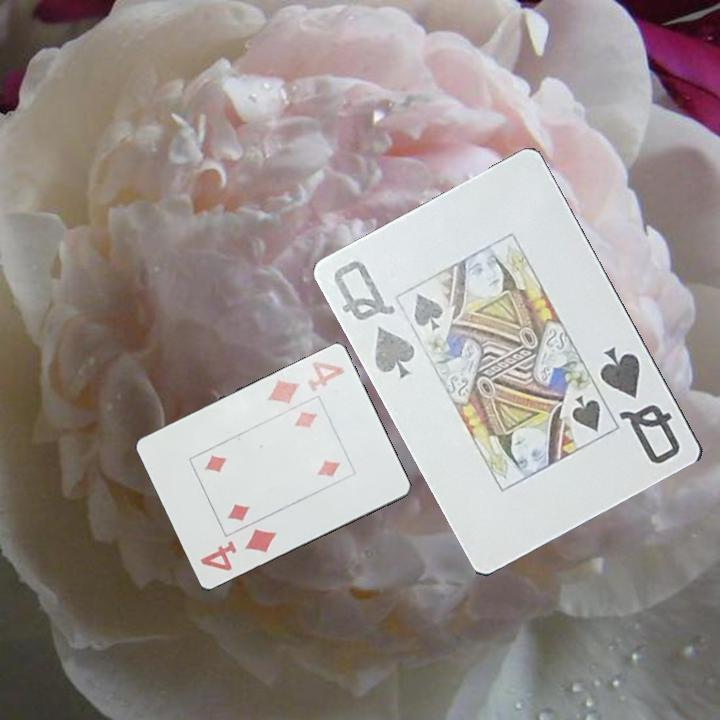4d: (263, 358, 348, 407), (196, 525, 280, 574)
Qs: (330, 257, 422, 382), (596, 343, 684, 468)
